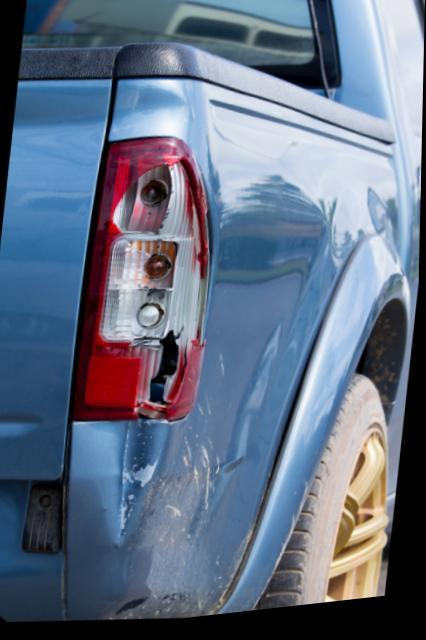dent: (101, 225, 321, 604)
lamp broken: (73, 141, 209, 425)
